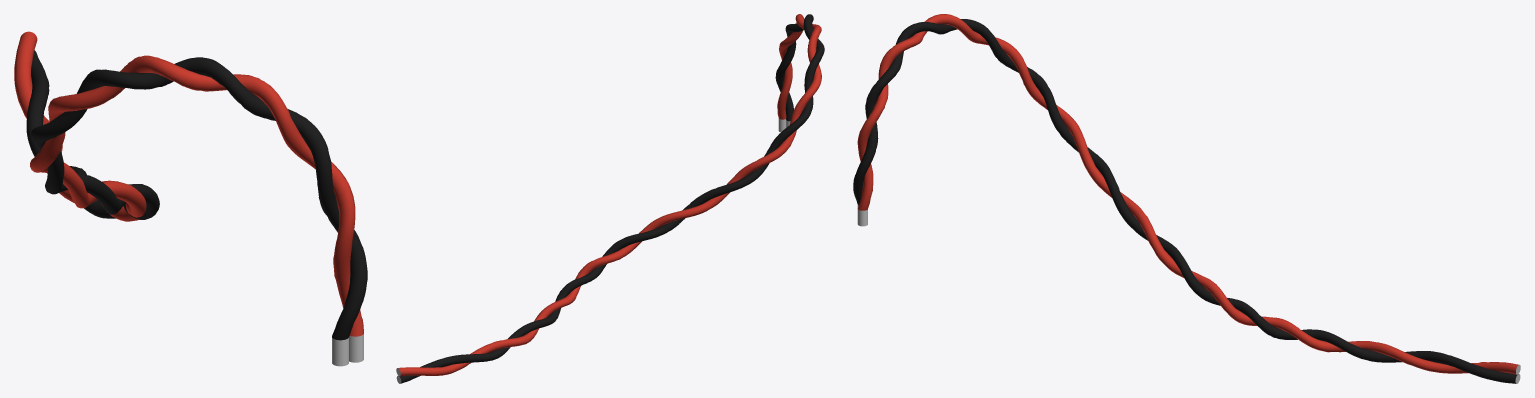
Rendered from powercable.gltf.
The picture shows the model from 3 angles, left to right: view 1: azimuth 30°, elevation 25°; view 2: azimuth 150°, elevation 25°; view 3: azimuth 270°, elevation 25°; orthographic projection. The views are drawn at different scales.
Bounding box in the file's own units: 0.0331 × 0.0348 × 0.0774.
